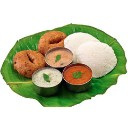idly: (79, 41, 117, 73), (64, 31, 99, 58)
